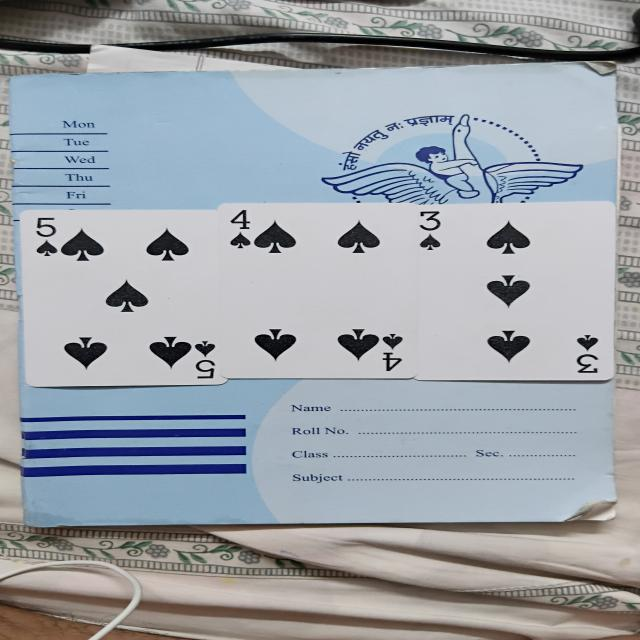3S: (424, 207, 619, 378)
4S: (226, 202, 424, 380)
5S: (28, 213, 220, 384)
